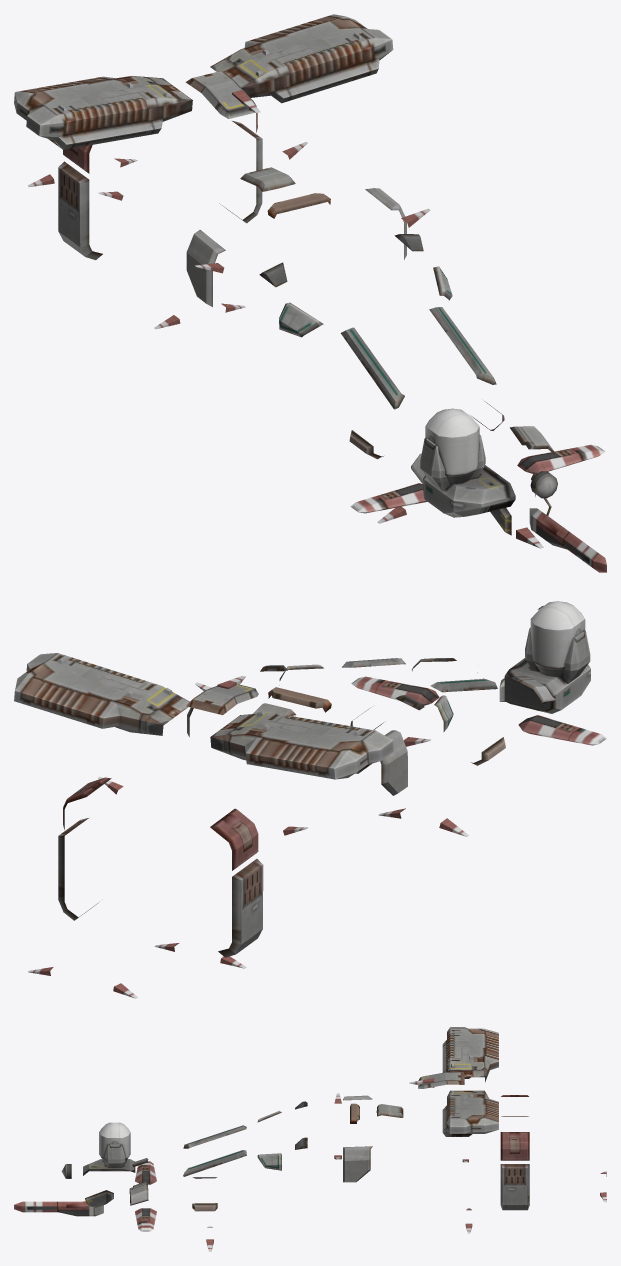
The model's file is tan_missile_frigate_01_t1.glb.
3 views of the same model, one above another, from view 1: azimuth 30°, elevation 25°; view 2: azimuth 150°, elevation 25°; view 3: azimuth 270°, elevation 25° (orthographic). The views are drawn at different scales.
Visible parts, largest first — view 1: tan_missile_frigate_01_t1_LOD0; view 2: tan_missile_frigate_01_t1_LOD0; view 3: tan_missile_frigate_01_t1_LOD0.
Part boxes in pixels (left/top/right/bottom): tan_missile_frigate_01_t1_LOD0: left=14, top=14, right=606, bottom=572; tan_missile_frigate_01_t1_LOD0: left=14, top=601, right=606, bottom=998; tan_missile_frigate_01_t1_LOD0: left=14, top=1027, right=606, bottom=1251.
Size of what is drawn, in the model's own units: 1.33 by 1.03 by 3.32.
Materials: 1 (1 with a texture image).
